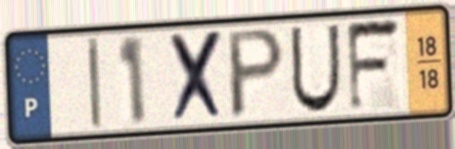1: (116, 33, 149, 129)
F: (344, 14, 405, 116)
I: (84, 34, 105, 133)
P: (226, 25, 288, 123)
U: (287, 21, 343, 116)
X: (167, 27, 228, 127)
